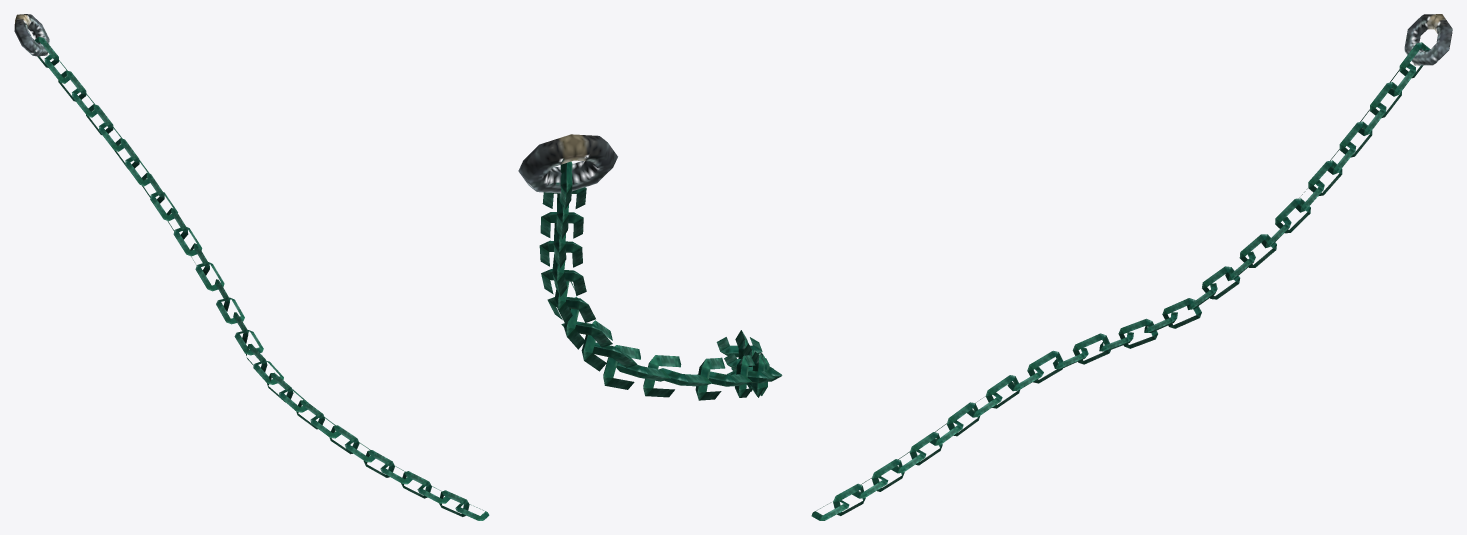
The model's file is 5st_chain_008.glb.
The picture shows the model from 3 angles, left to right: view 1: azimuth 30°, elevation 25°; view 2: azimuth 150°, elevation 25°; view 3: azimuth 270°, elevation 25°; orthographic projection. The views are drawn at different scales.
Parts seen in each view (by area): view 1: chain008; view 2: chain008; view 3: chain008.
Boxes of the visible parts, x1,y1,x2,y2 form: chain008: [14, 14, 489, 520]; chain008: [518, 134, 782, 400]; chain008: [811, 14, 1452, 520].
Size of the model in its own units: 8.31 by 13.47 by 19.47.
2 materials, 2 textured.
